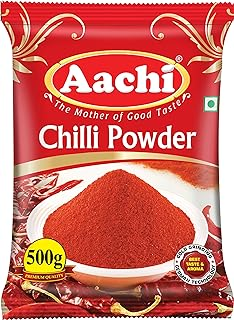Chilli Powder: (1, 3, 234, 319)
